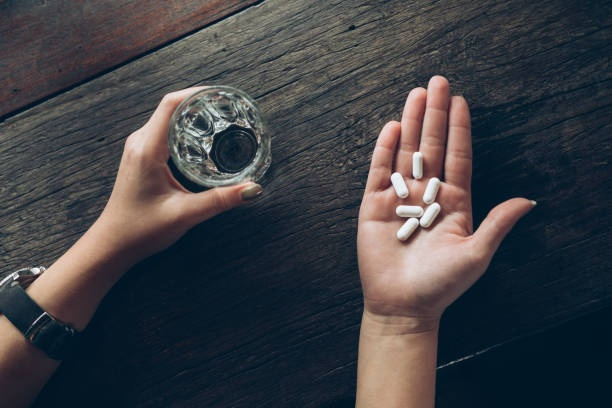pills: (417, 201, 447, 230), (393, 210, 417, 242), (421, 177, 442, 208), (390, 171, 410, 200)
